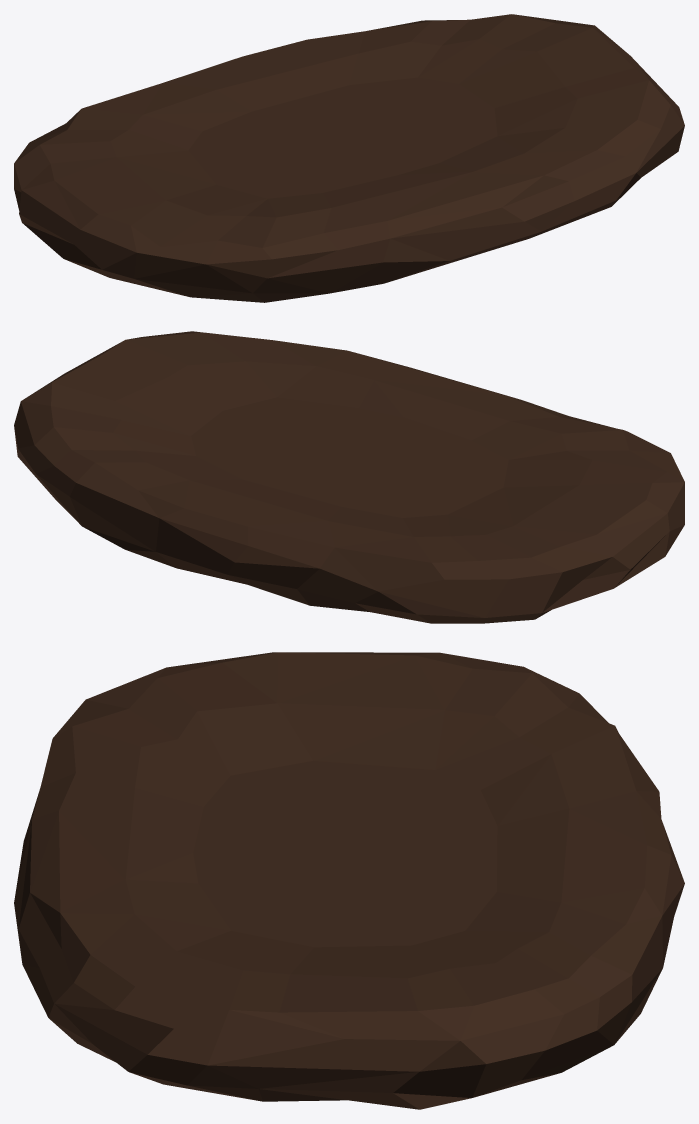
File: stek1.fbx
3 views of the same model, one above another, from view 1: azimuth 30°, elevation 25°; view 2: azimuth 150°, elevation 25°; view 3: azimuth 270°, elevation 25° (orthographic). The views are drawn at different scales.
Visible parts, largest first — view 1: stek 1; view 2: stek 1; view 3: stek 1.
Boxes of the visible parts, x1,y1,x2,y2 form: stek 1: (14,14,684,302); stek 1: (14,331,684,623); stek 1: (14,652,684,1109).
Bounding box in the file's own units: 681 × 104 × 454.
